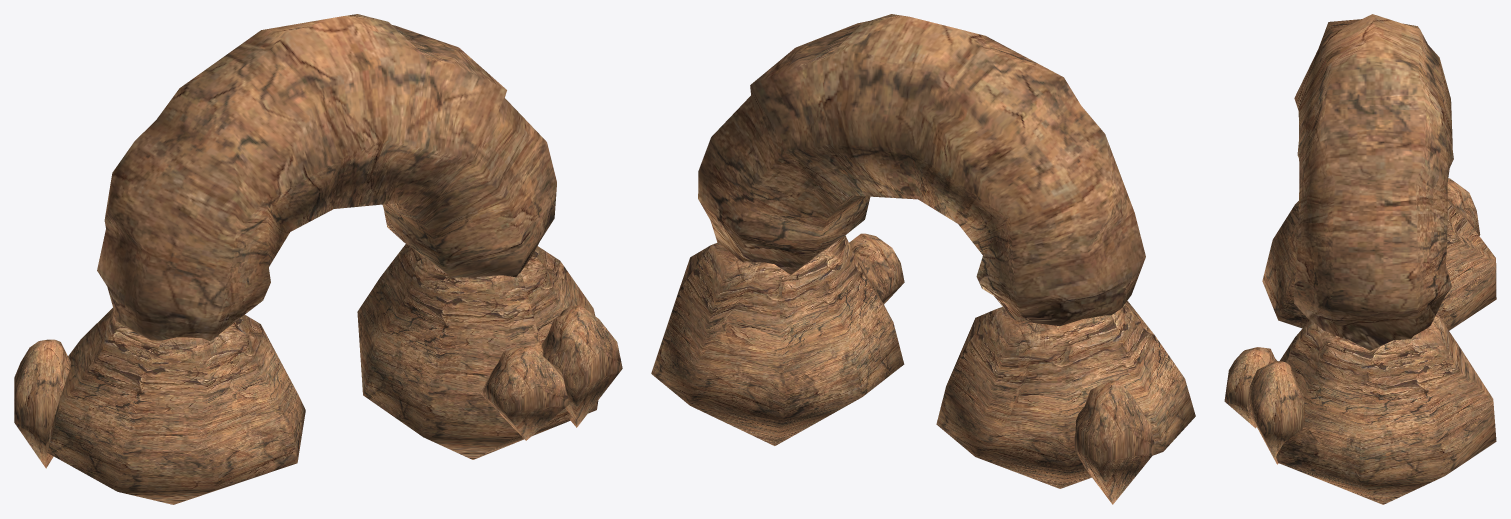
The model's file is rock_tatt_arch_sm_l2.fbx.
3 views of the same model, side by side, from view 1: azimuth 30°, elevation 25°; view 2: azimuth 150°, elevation 25°; view 3: azimuth 270°, elevation 25° (orthographic). The views are drawn at different scales.
Parts seen in each view (by area): view 1: mesh_node; view 2: mesh_node; view 3: mesh_node.
Boxes of the visible parts, bbox=[...] form: mesh_node: bbox=[14, 14, 622, 504]; mesh_node: bbox=[651, 14, 1195, 504]; mesh_node: bbox=[1224, 14, 1496, 504].
Size of the model in its own units: 46.64 by 39.05 by 23.32.
